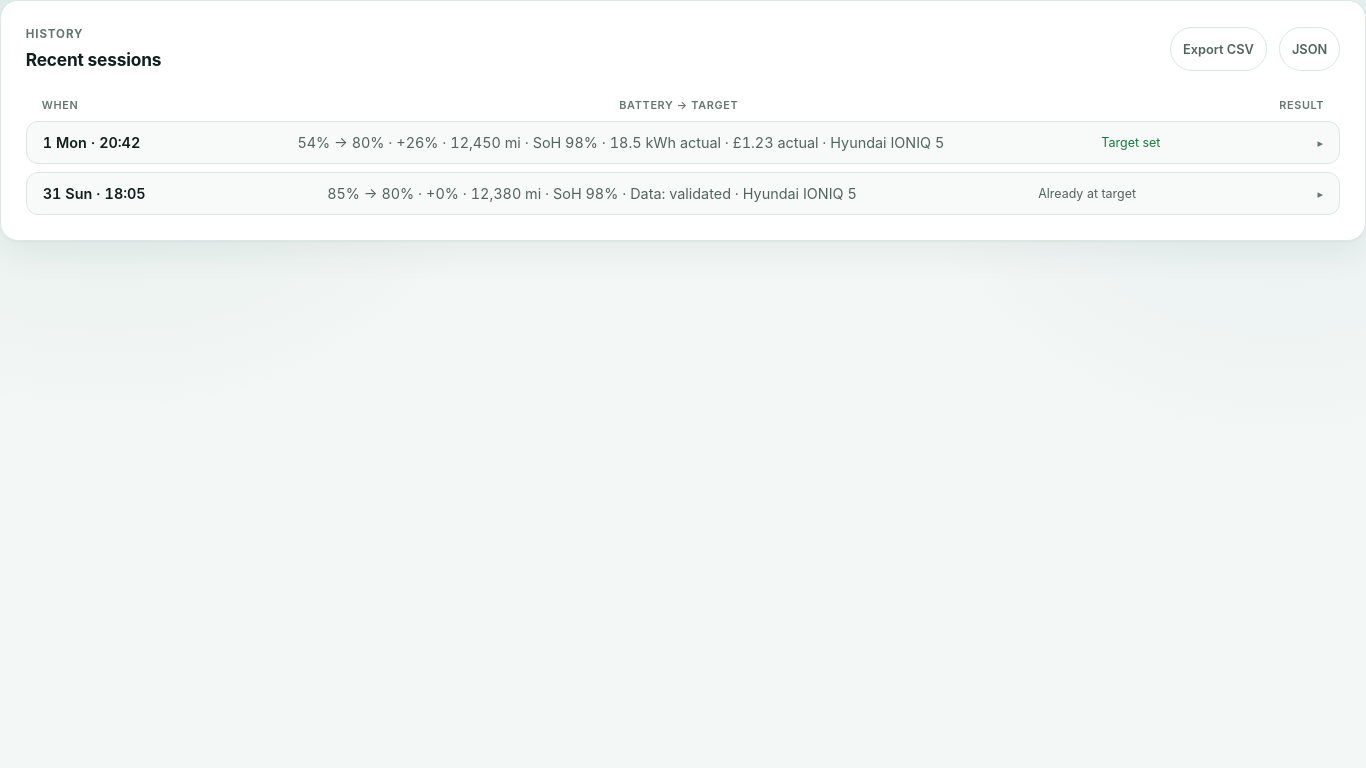
Test case: SessionsSection › expands a row to show its audit and charge curve on click
Click the button that starts with "1 Mon · 20:42" at (683, 143), box [26,121,1340,164]
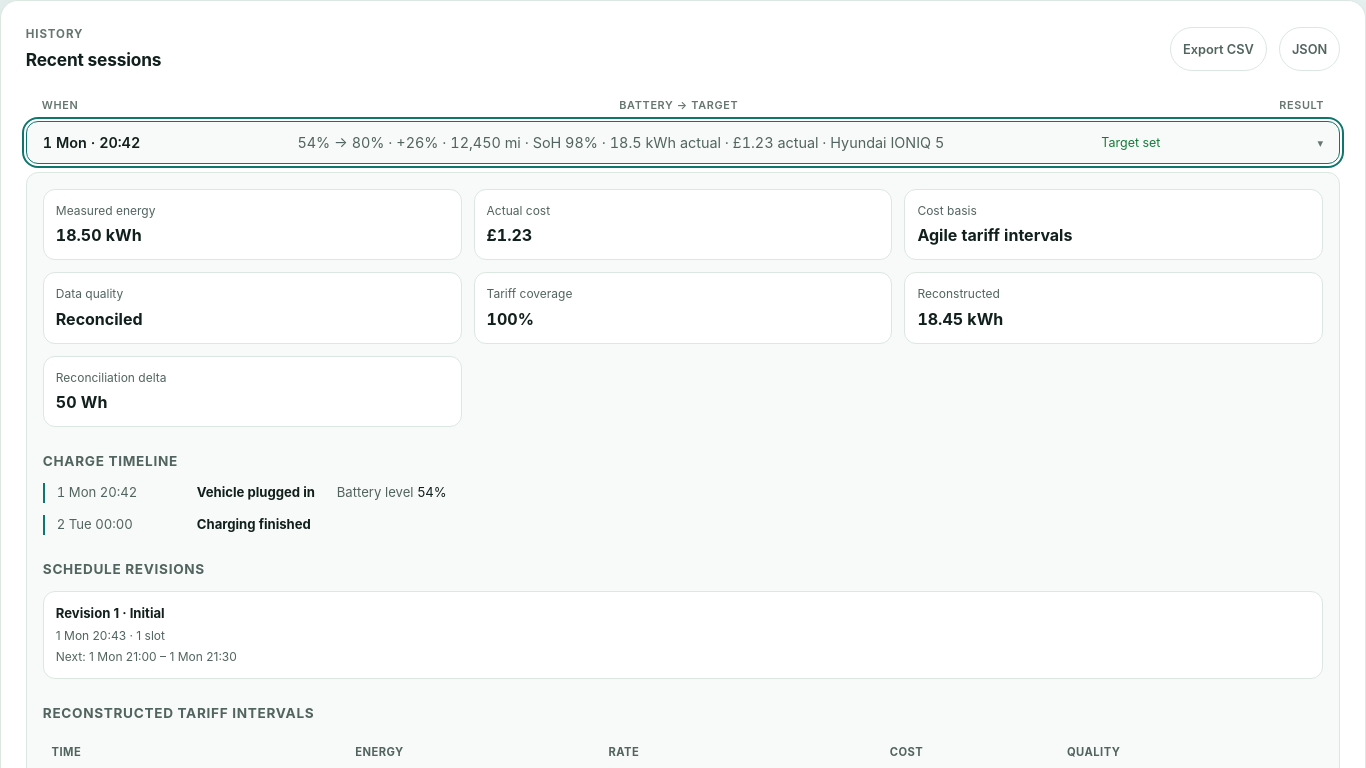
Expected: the text "Measured energy" is shown, [56,203,156,218]
Expected: the heading "Charge timeline" is shown, [43,453,178,469]
